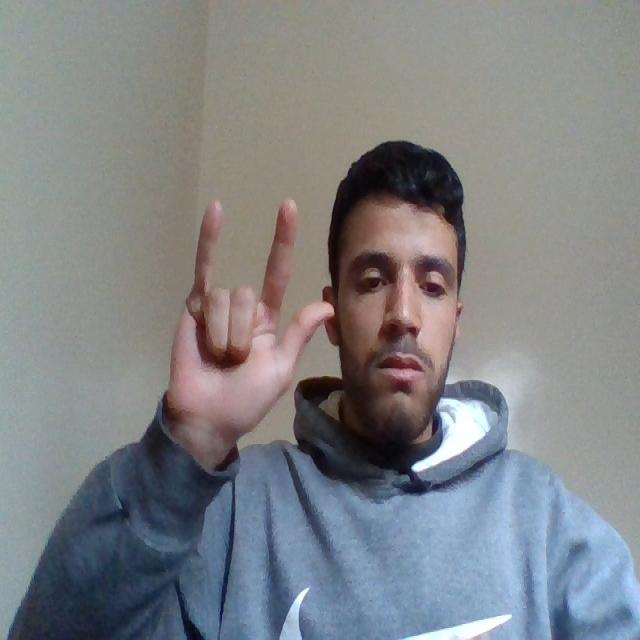I Love You: (152, 191, 341, 433)
